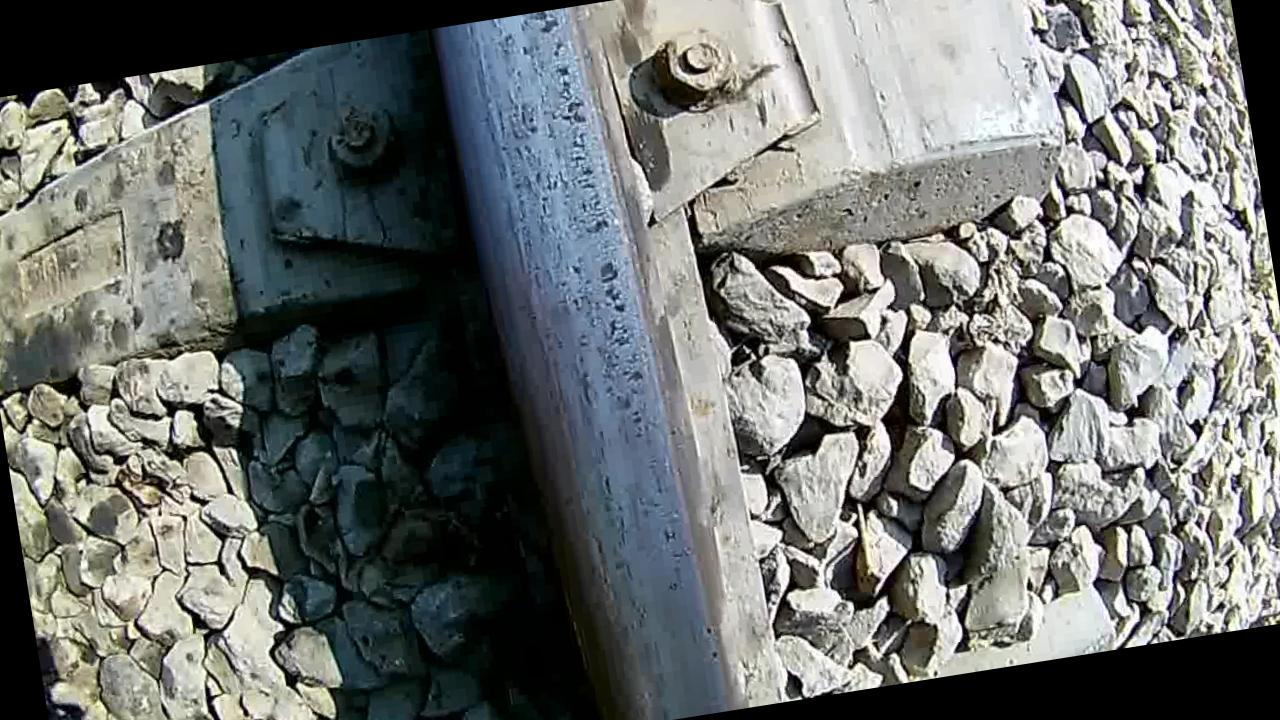crack: (437, 0, 742, 720)
